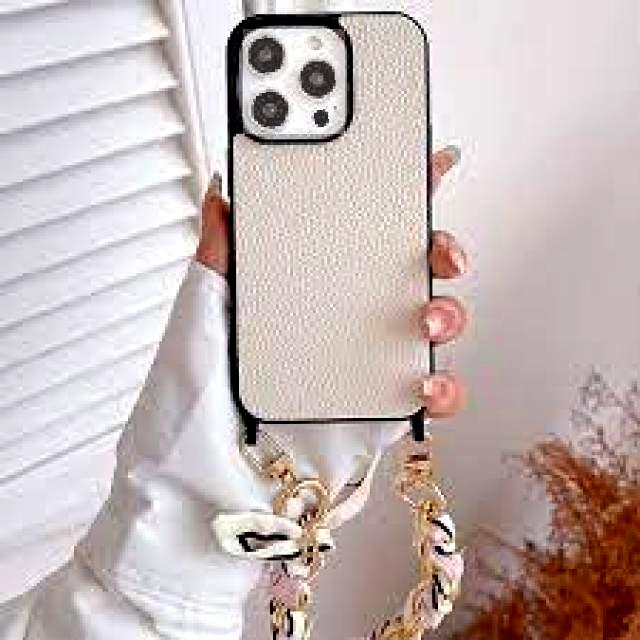lens_back: (296, 58, 338, 99), (249, 88, 292, 128), (248, 33, 285, 75)
phone: (224, 10, 439, 431)
